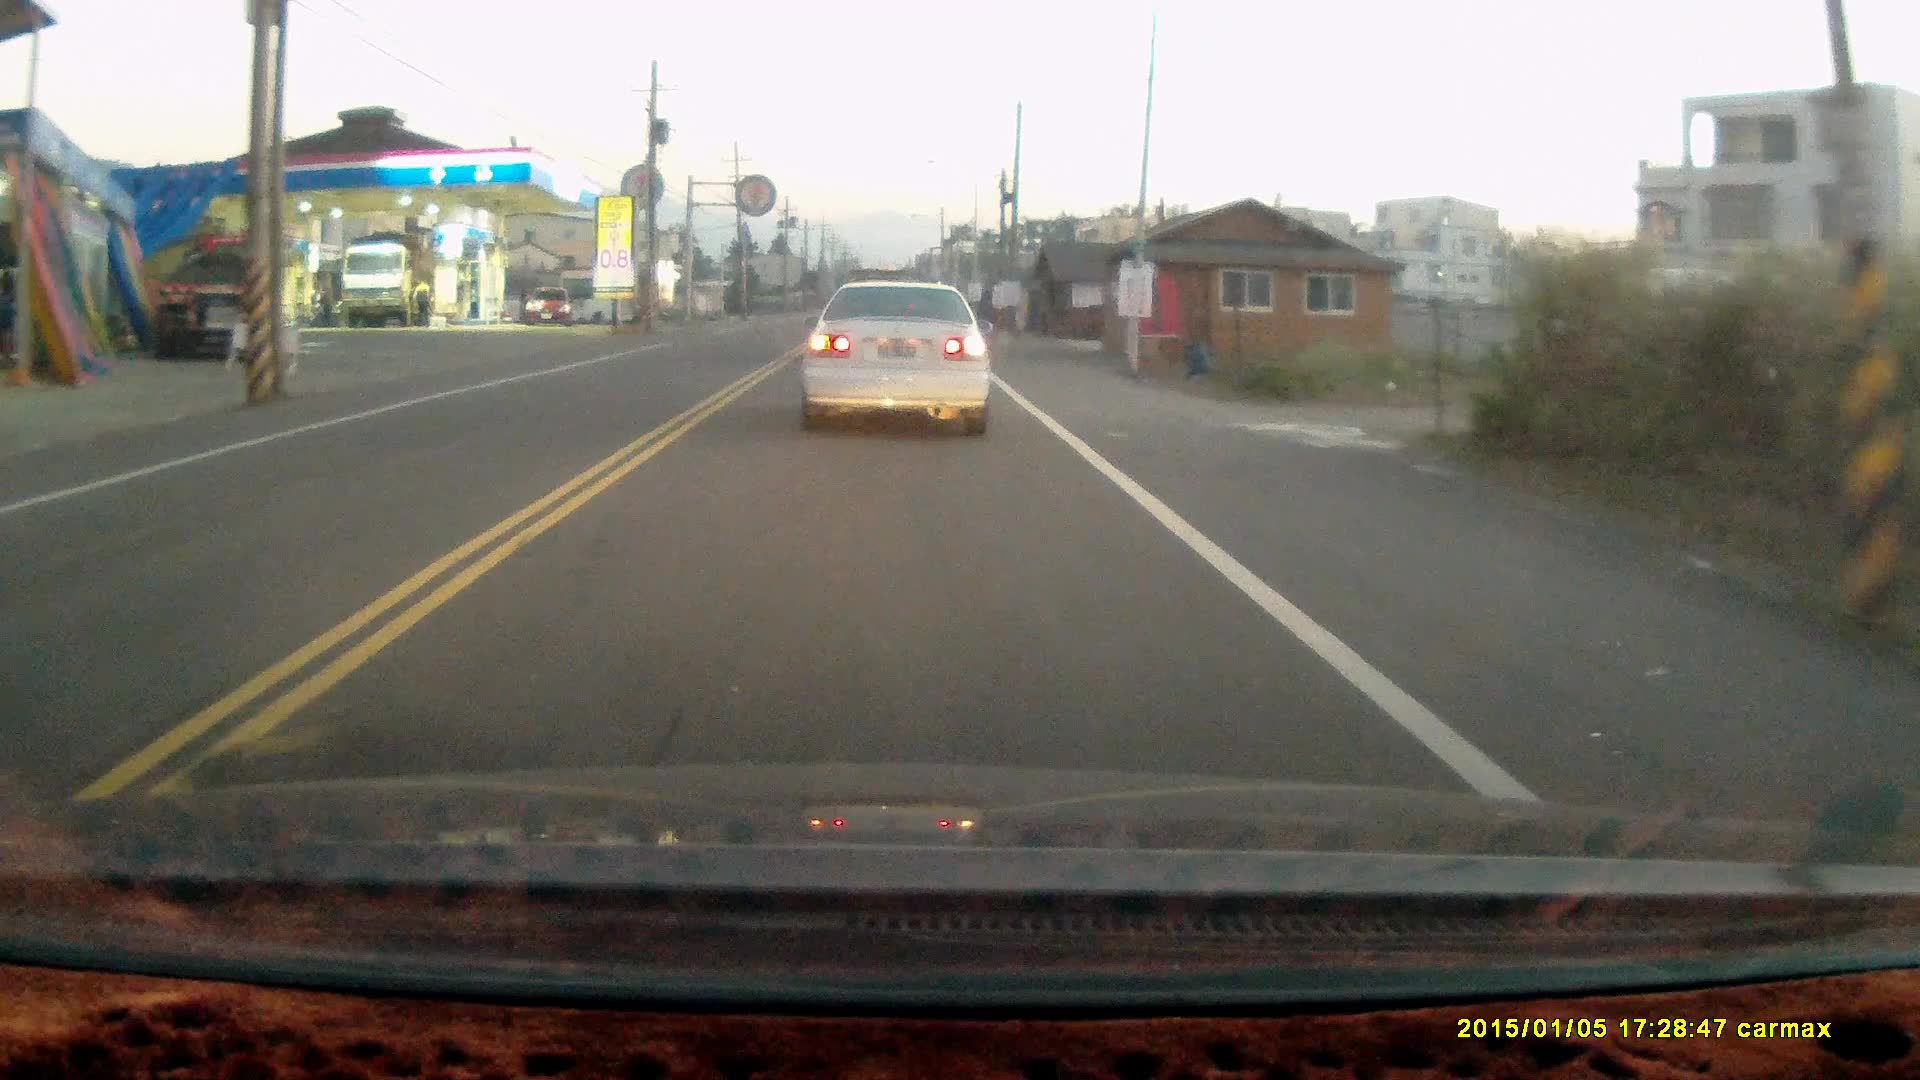pedestrian: (410, 274, 431, 325)
vehicle: (797, 282, 997, 444), (146, 234, 279, 366), (341, 244, 430, 334), (526, 287, 571, 327)
